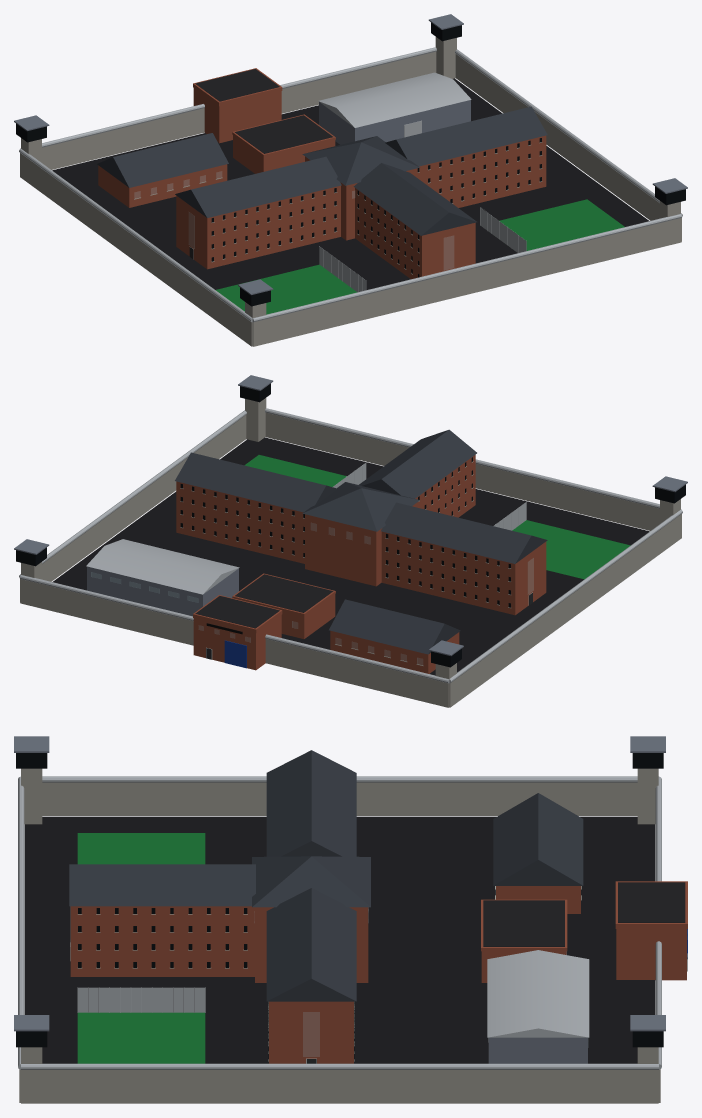
The model's file is context.type.prison.glb.
The picture shows the model from 3 angles, top to bottom: view 1: azimuth 30°, elevation 25°; view 2: azimuth 150°, elevation 25°; view 3: azimuth 270°, elevation 25°; orthographic projection. The views are drawn at different scales.
Visible parts, largest first — view 1: walls__concrete, walls__brick, roof__slate, ground__asphalt, roof__steel_galvanised, ground__plastic_green, walls__steel_painted, roof__roof_felt, walls__steel_galvanised, openings__glass_dark, walls__glass_dark, roof__brick (+2 smaller); view 2: walls__concrete, walls__brick, roof__slate, ground__asphalt, roof__steel_galvanised, walls__steel_painted, ground__plastic_green, roof__roof_felt, openings__glass_dark, walls__glass_dark, roof__brick, openings__glass (+3 smaller); view 3: ground__asphalt, walls__concrete, roof__slate, walls__brick, roof__steel_galvanised, ground__plastic_green, roof__roof_felt, walls__steel_painted, walls__steel_galvanised, walls__glass_dark, roof__brick, openings__glass_dark (+1 smaller).
Part boxes in pixels (x1=…): walls__concrete: x1=20, y1=37, x2=681, y2=346; walls__brick: x1=98, y1=88, x2=546, y2=279; roof__slate: x1=97, y1=106, x2=547, y2=235; ground__asphalt: x1=52, y1=78, x2=649, y2=289; roof__steel_galvanised: x1=19, y1=47, x2=682, y2=322; ground__plastic_green: x1=215, y1=199, x2=624, y2=314; walls__steel_painted: x1=14, y1=14, x2=687, y2=294; roof__roof_felt: x1=195, y1=69, x2=332, y2=153; walls__steel_galvanised: x1=319, y1=207, x2=526, y2=292; openings__glass_dark: x1=211, y1=138, x2=541, y2=277; walls__glass_dark: x1=16, y1=22, x2=685, y2=306; roof__brick: x1=193, y1=68, x2=335, y2=157; walls__concrete: x1=20, y1=398, x2=681, y2=707; walls__brick: x1=176, y1=455, x2=546, y2=673; roof__slate: x1=175, y1=429, x2=547, y2=654; ground__asphalt: x1=52, y1=437, x2=649, y2=675; roof__steel_galvanised: x1=19, y1=408, x2=682, y2=683; walls__steel_painted: x1=14, y1=375, x2=687, y2=655; ground__plastic_green: x1=244, y1=455, x2=630, y2=579; roof__roof_felt: x1=195, y1=574, x2=333, y2=628; openings__glass_dark: x1=180, y1=457, x2=510, y2=607; walls__glass_dark: x1=16, y1=383, x2=685, y2=667; roof__brick: x1=193, y1=573, x2=335, y2=632; openings__glass: x1=91, y1=523, x2=533, y2=664; ground__asphalt: x1=24, y1=816, x2=655, y2=1063; walls__concrete: x1=19, y1=768, x2=660, y2=1103; roof__slate: x1=69, y1=750, x2=583, y2=1001; walls__brick: x1=70, y1=886, x2=686, y2=1063; roof__steel_galvanised: x1=18, y1=776, x2=661, y2=1069; ground__plastic_green: x1=77, y1=833, x2=205, y2=1063; roof__roof_felt: x1=483, y1=882, x2=685, y2=946; walls__steel_painted: x1=14, y1=736, x2=665, y2=1063; walls__steel_galvanised: x1=77, y1=987, x2=205, y2=1012; walls__glass_dark: x1=16, y1=753, x2=663, y2=1047; roof__brick: x1=481, y1=881, x2=687, y2=951; openings__glass_dark: x1=78, y1=908, x2=354, y2=1060.
Size of the model in its own units: 98 by 16.04 by 95.12.
